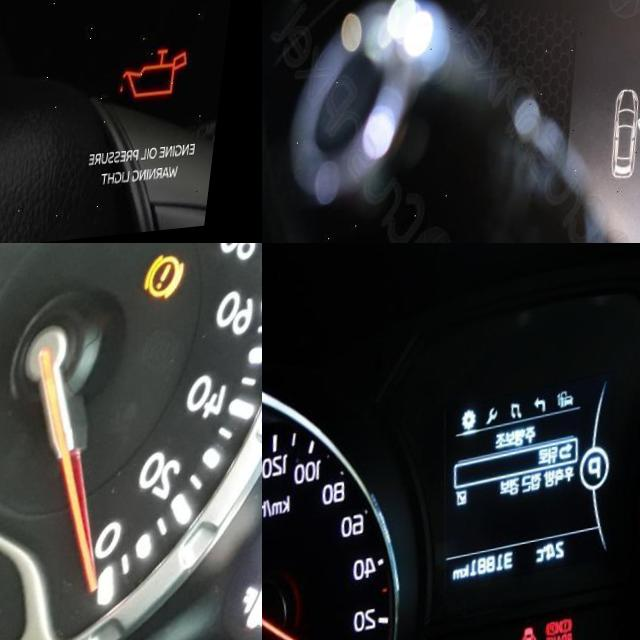Doors: (531, 630, 553, 640)
